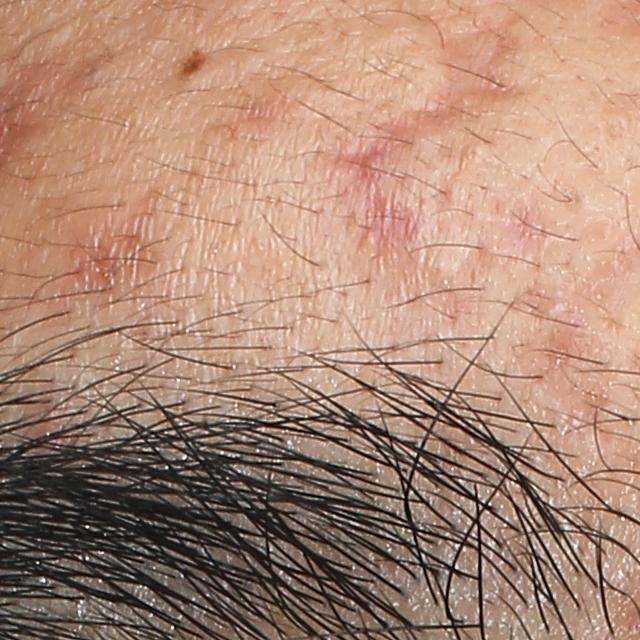atrophic_scar: (316, 24, 538, 172), (334, 177, 470, 327), (530, 332, 589, 390), (495, 200, 551, 258), (505, 279, 564, 319)
nevus: (169, 47, 207, 81)
